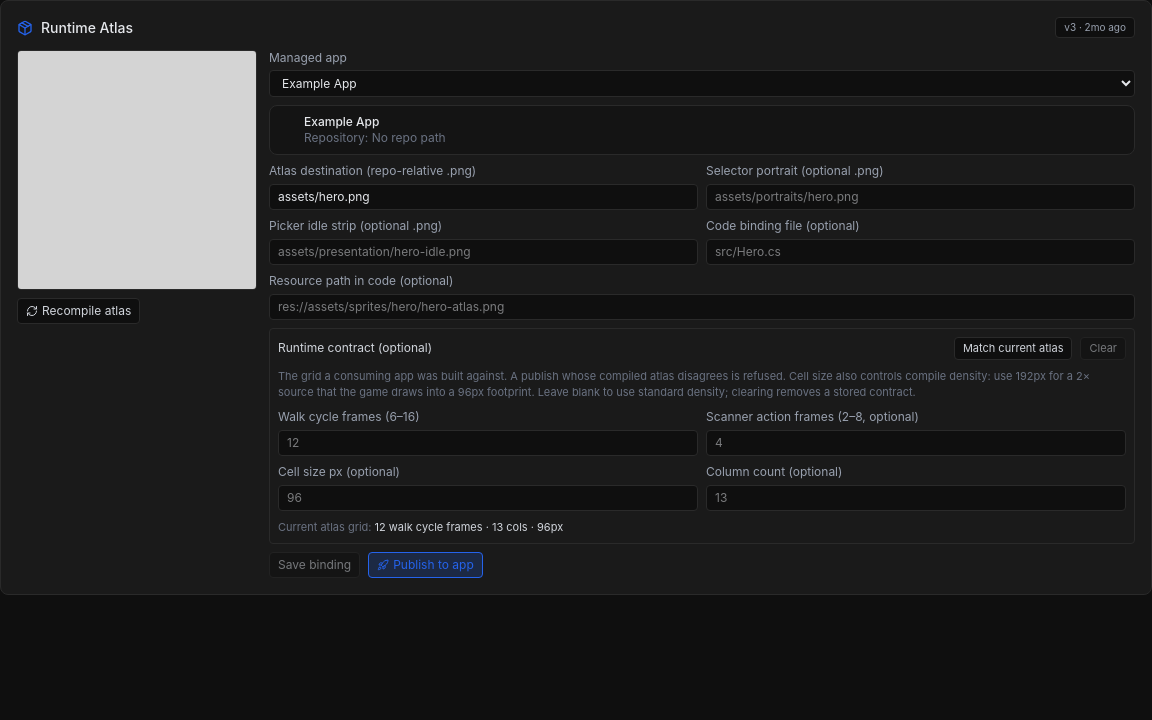
Test: PublishWorkflow runtime contract › MATCHES the current atlas geometry into the fields
The image size is (1152, 720).
What coordinates should you click on to do the following:
click the button "Match current atlas"
I would click on:
 (1013, 348)
Its box is [954, 337, 1072, 360].
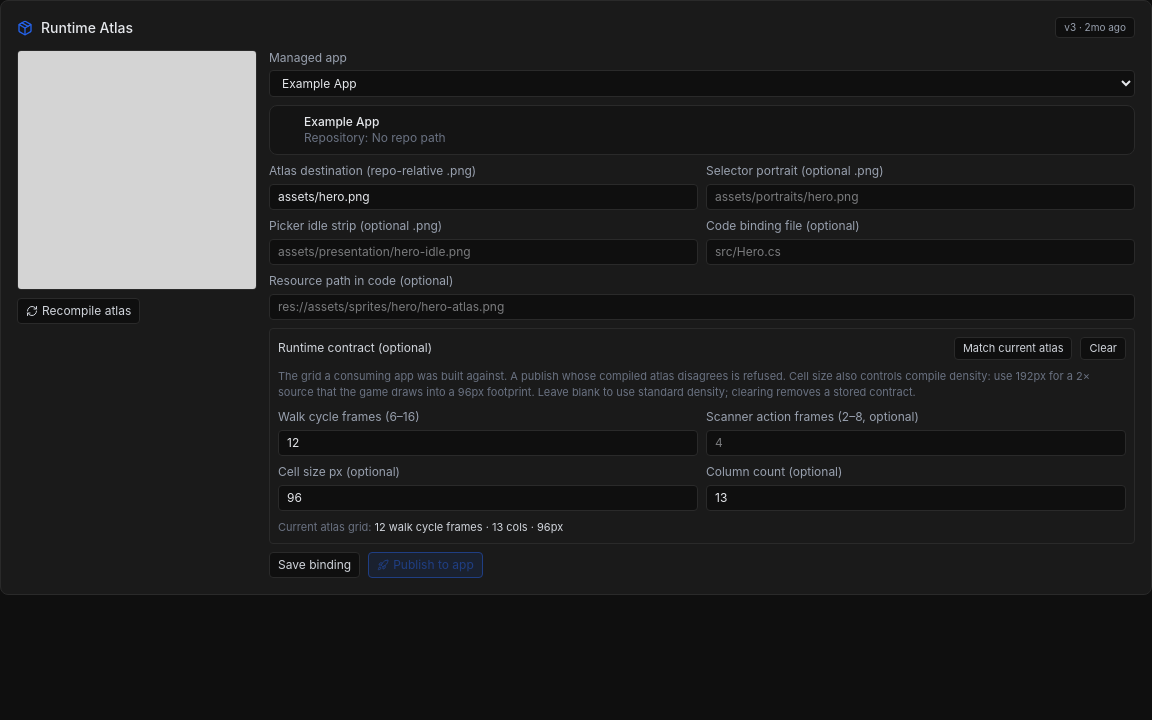
Expected: the number field labelled "Walk cycle frames (6–16)" holds "12", [278, 430, 698, 456]
Expected: the number field labelled "Cell size px (optional)" holds "96", [278, 484, 698, 510]
Expected: the number field labelled "Column count (optional)" holds "13", [706, 484, 1126, 510]
